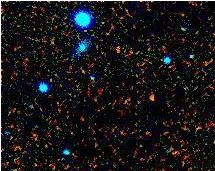star: (136, 84, 166, 114)
